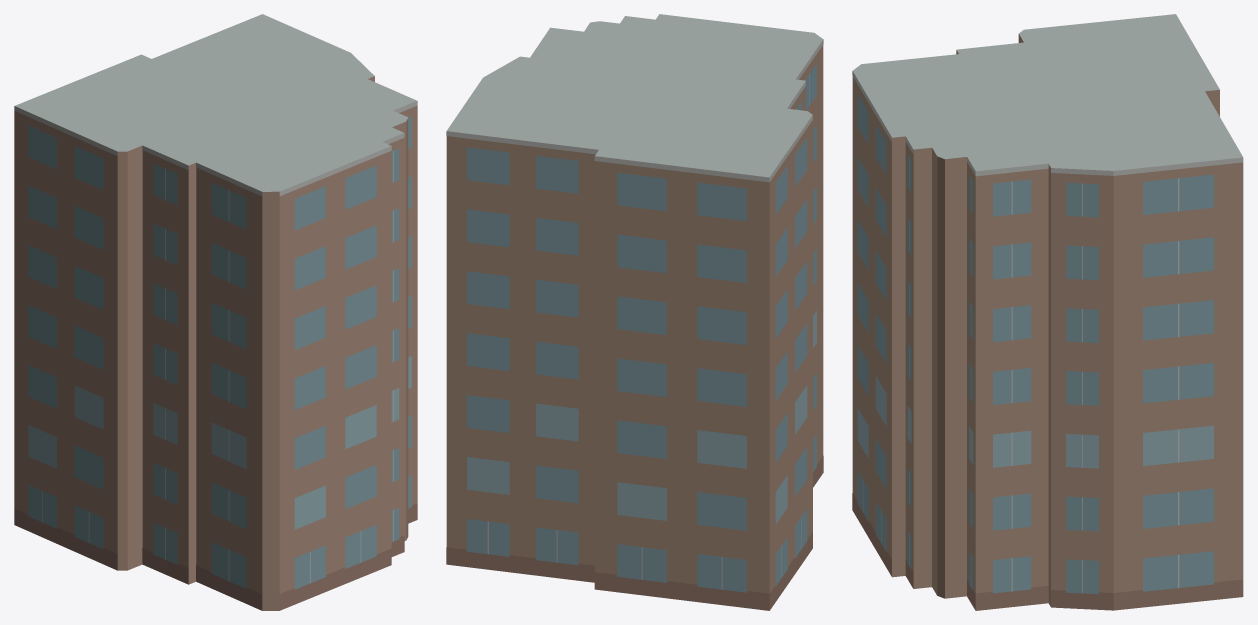
Rendered from survey-upis-32601695.glb.
3 views of the same model, side by side, from view 1: azimuth 30°, elevation 25°; view 2: azimuth 150°, elevation 25°; view 3: azimuth 270°, elevation 25° (orthographic). The views are drawn at different scales.
Parts seen in each view (by area): view 1: survey-upis-32601695.tmp; view 2: survey-upis-32601695.tmp; view 3: survey-upis-32601695.tmp.
Boxes of the visible parts, x1,y1,x2,y2 form: survey-upis-32601695.tmp: (14,14,417,610); survey-upis-32601695.tmp: (446,14,823,610); survey-upis-32601695.tmp: (852,14,1243,610).
Bounding box in the file's own units: 16.68 × 21.7 × 17.5.
